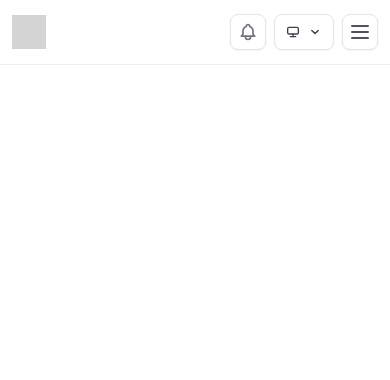
Test: Header › mobile menu contains all nav links
What coordinates should you click on to do the following:
click the button named "open menu"
I would click on:
 (360, 32)
Its box is [342,14,378,50].
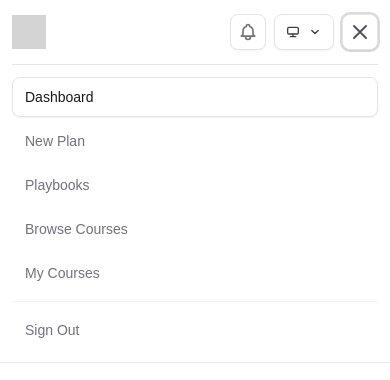
Result: the link "Dashboard" is shown at [12,77,378,117]
Result: the link "New Plan" is shown at [25,133,85,149]
Result: the link "Browse Courses" is shown at [25,221,128,237]
